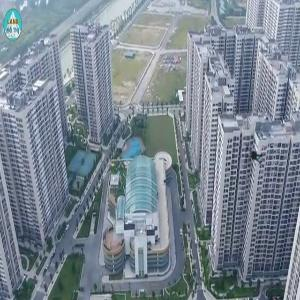drone: (234, 135, 277, 178)
